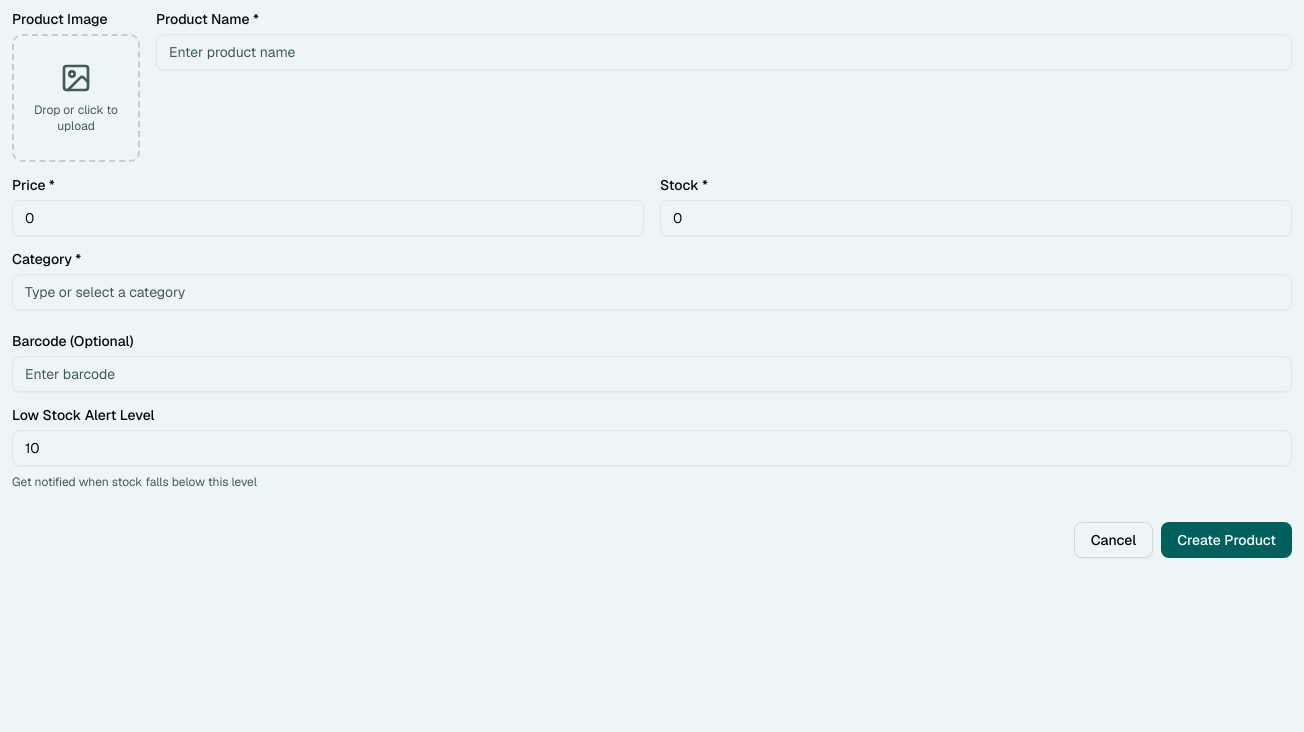
Test: ProductForm › validates that category is required
This screenshot has width=1304, height=732.
Note: Fill in other required fields but leave category empty
Step 1. Type "Test Product" into the field labelled "Product Name *" → (724, 52), box top-left (156, 34), bottom-right (1292, 70)
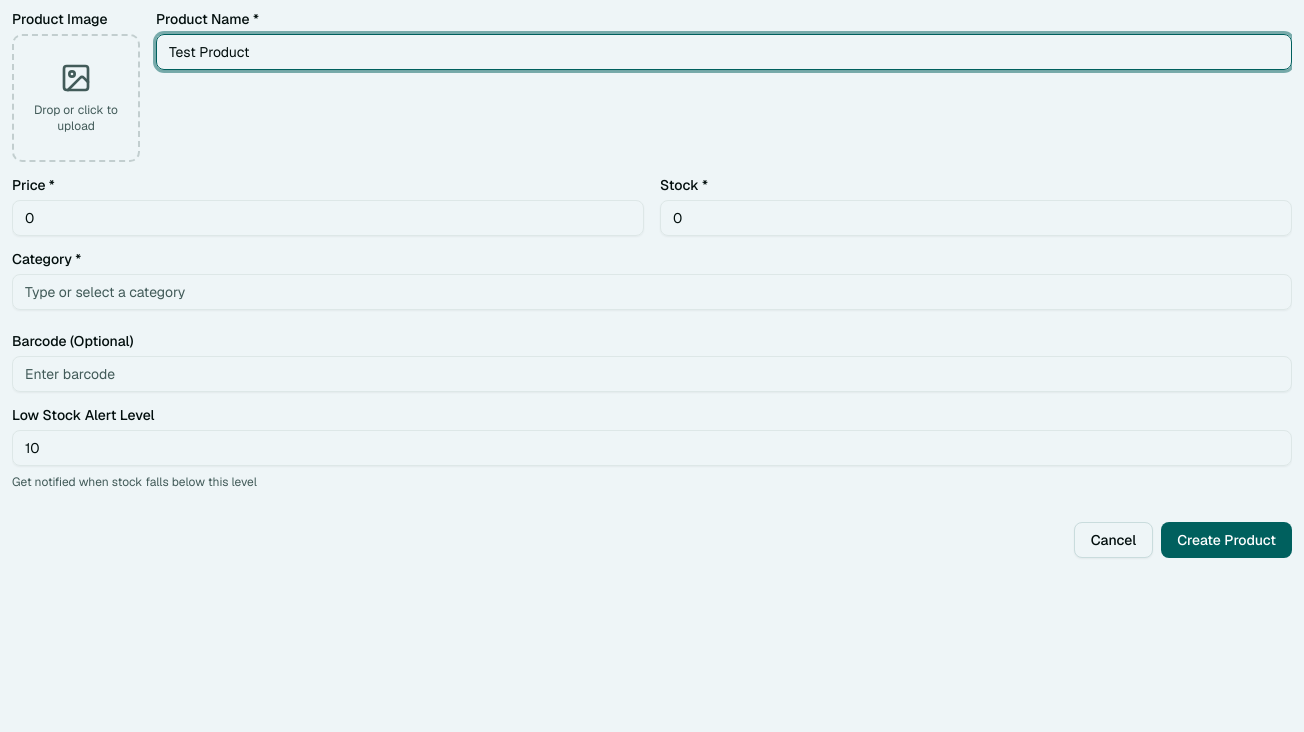
Step 2. Type "9.99" into the number field labelled "Price *" → (328, 218), box top-left (12, 200), bottom-right (644, 236)
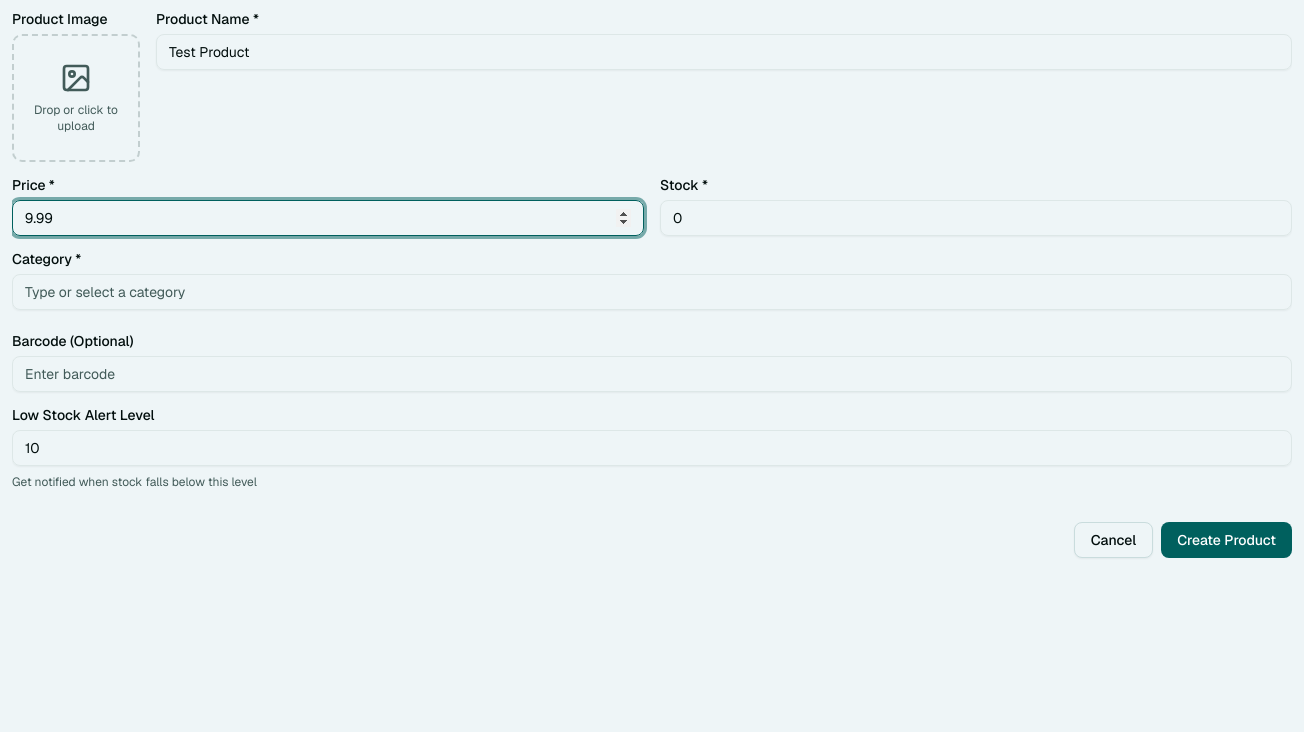
Step 3. Type "10" into the number field labelled "Stock *" → (976, 218), box top-left (660, 200), bottom-right (1292, 236)
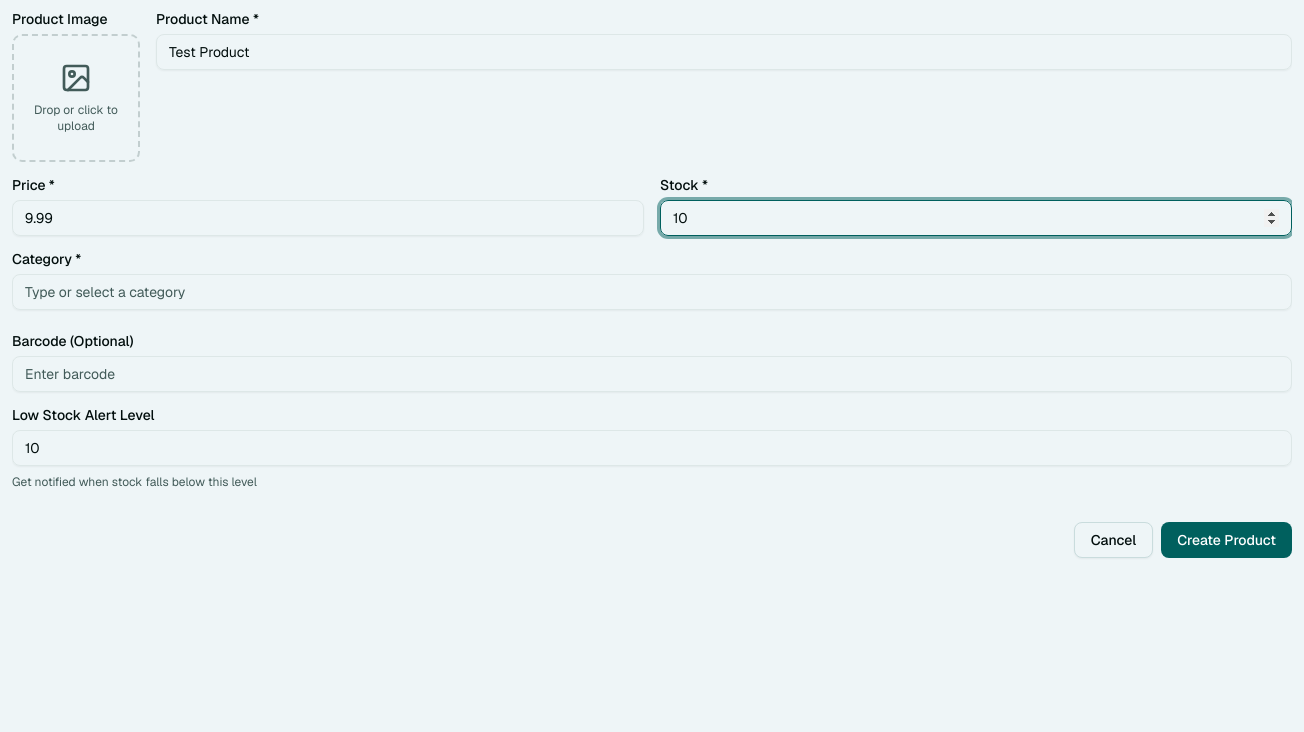
Note: Try to submit
Step 4. Click the button "Create Product" → (1227, 540), box top-left (1161, 522), bottom-right (1292, 558)
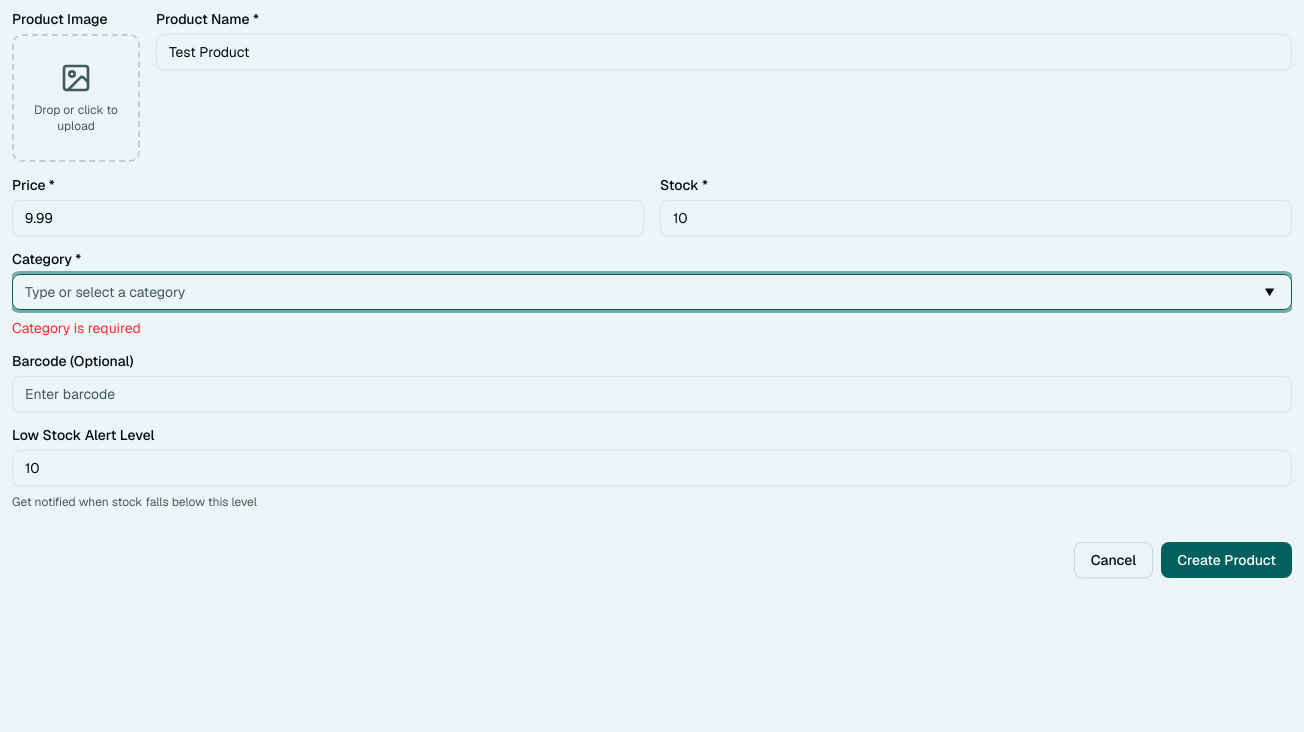
Result: the text "Category is required" is shown at top-left (12, 319), bottom-right (141, 337)
